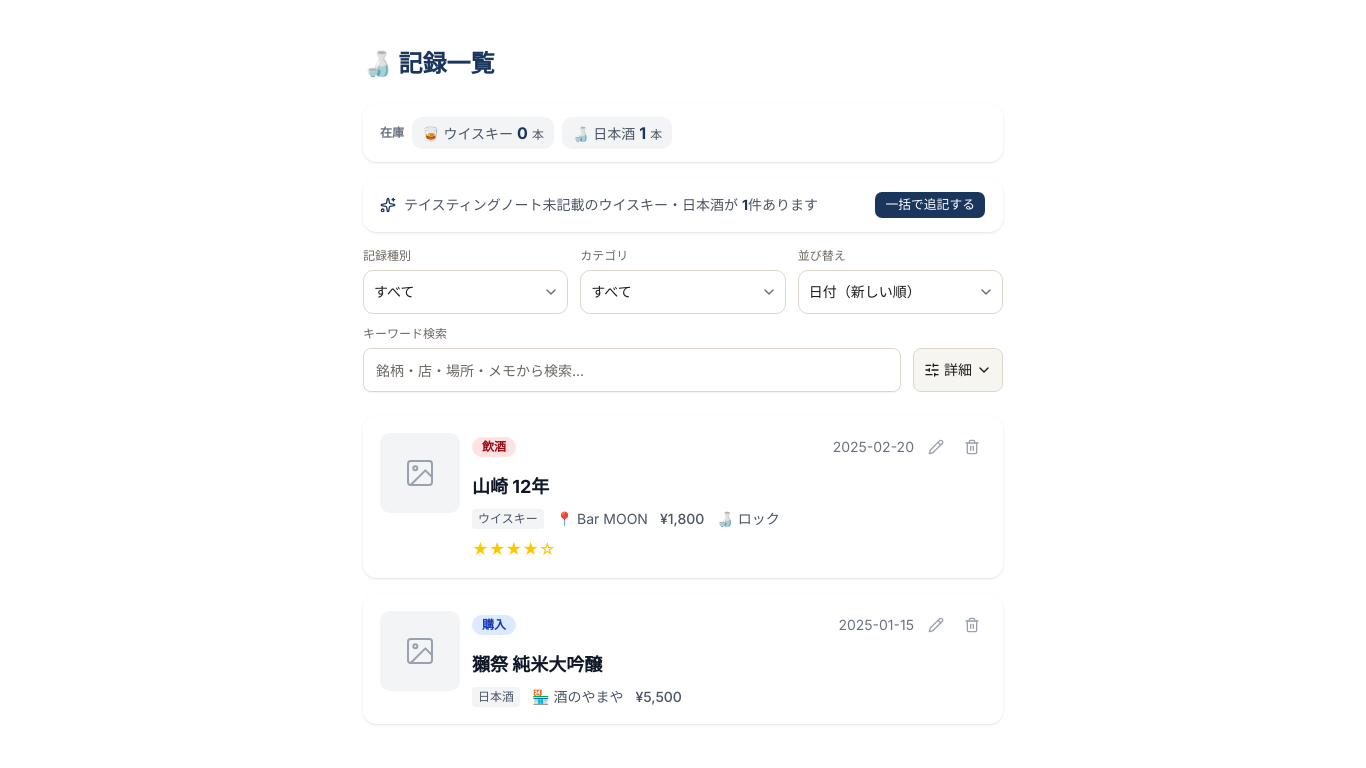
RecordListPage 削除統合テスト › 削除成功時に記録が一覧から除去される
The width and height of the screenshot is (1366, 768).
Expected: the number of elements with test id "record-card" is 2, [363,416,1003,578]; [363,594,1003,724]
Expected: the heading "獺祭 純米大吟醸" is shown, [472,654,602,675]
Click the button named "削除" next to "2025-01-15".
click(972, 625)  # box [958,611,986,639]
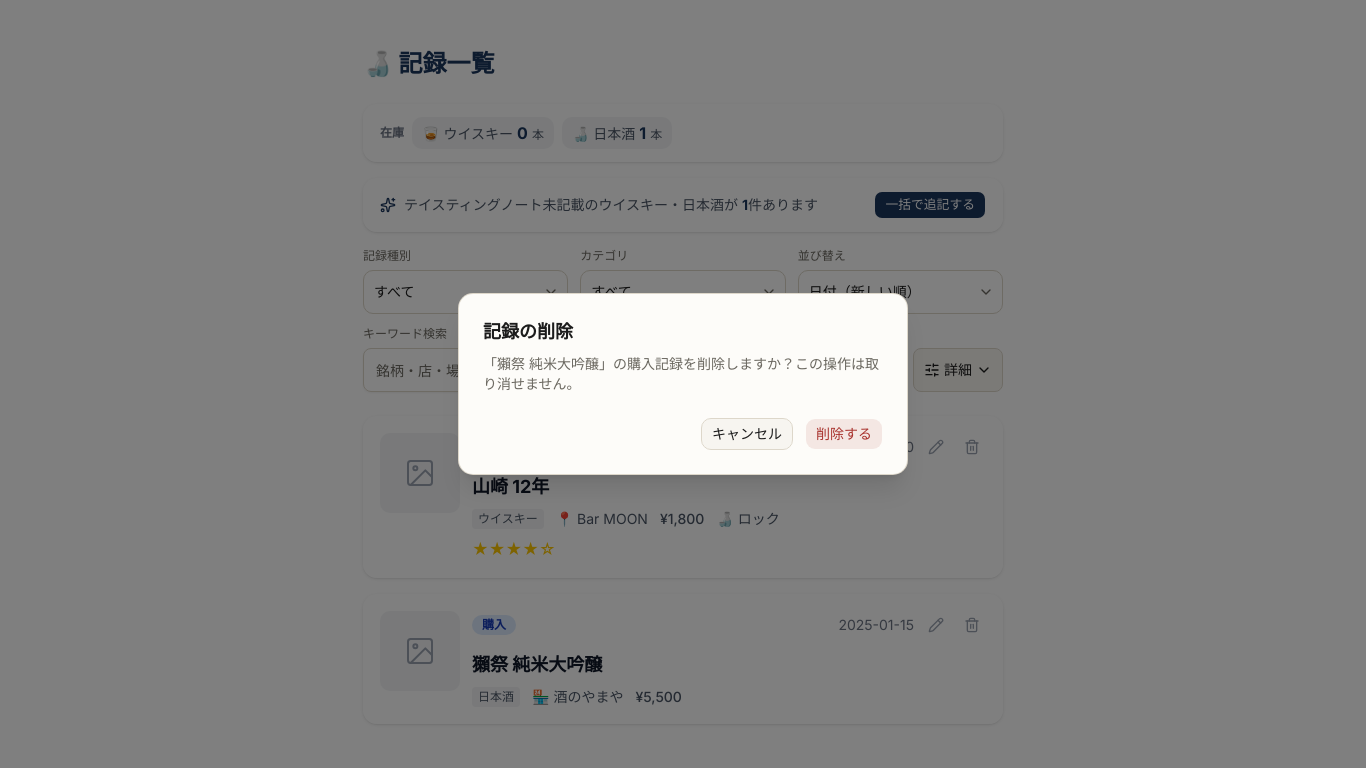
Now the text "「獺祭 純米大吟醸」の購入記録を削除しますか？この操作は取り消せません。" is shown, box [483,354,883,394]
Click the button "削除する".
click(844, 434)  # box [805,418,883,450]
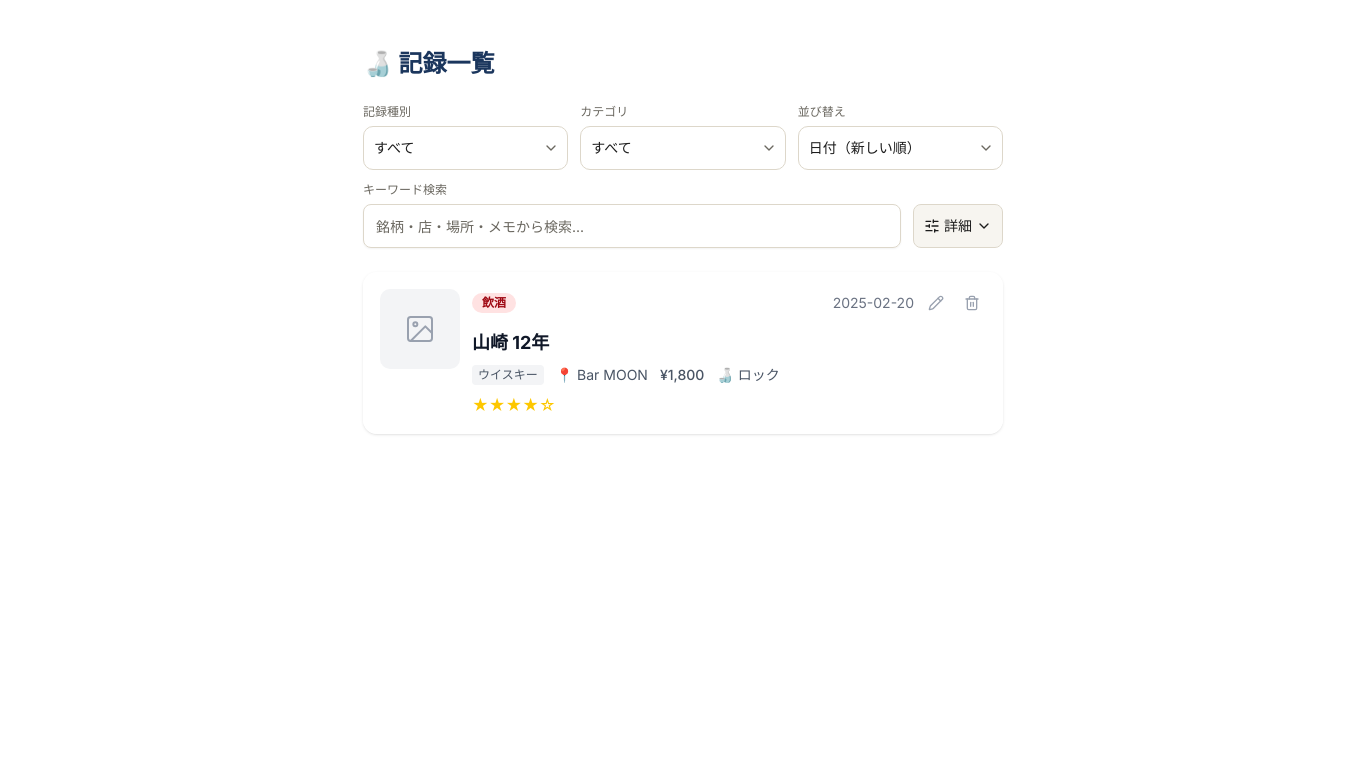
Expected: the heading "山崎 12年" is shown, [472,332,549,353]
Now the heading "獺祭 純米大吟醸" is gone
